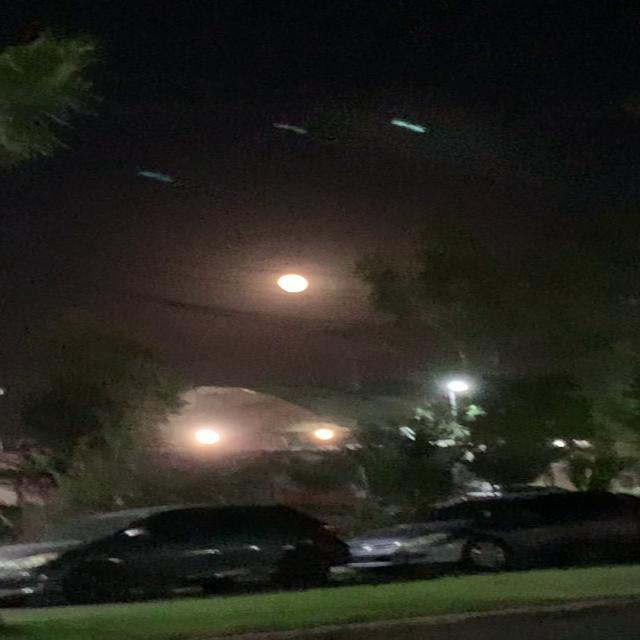moon: (267, 261, 327, 296)
